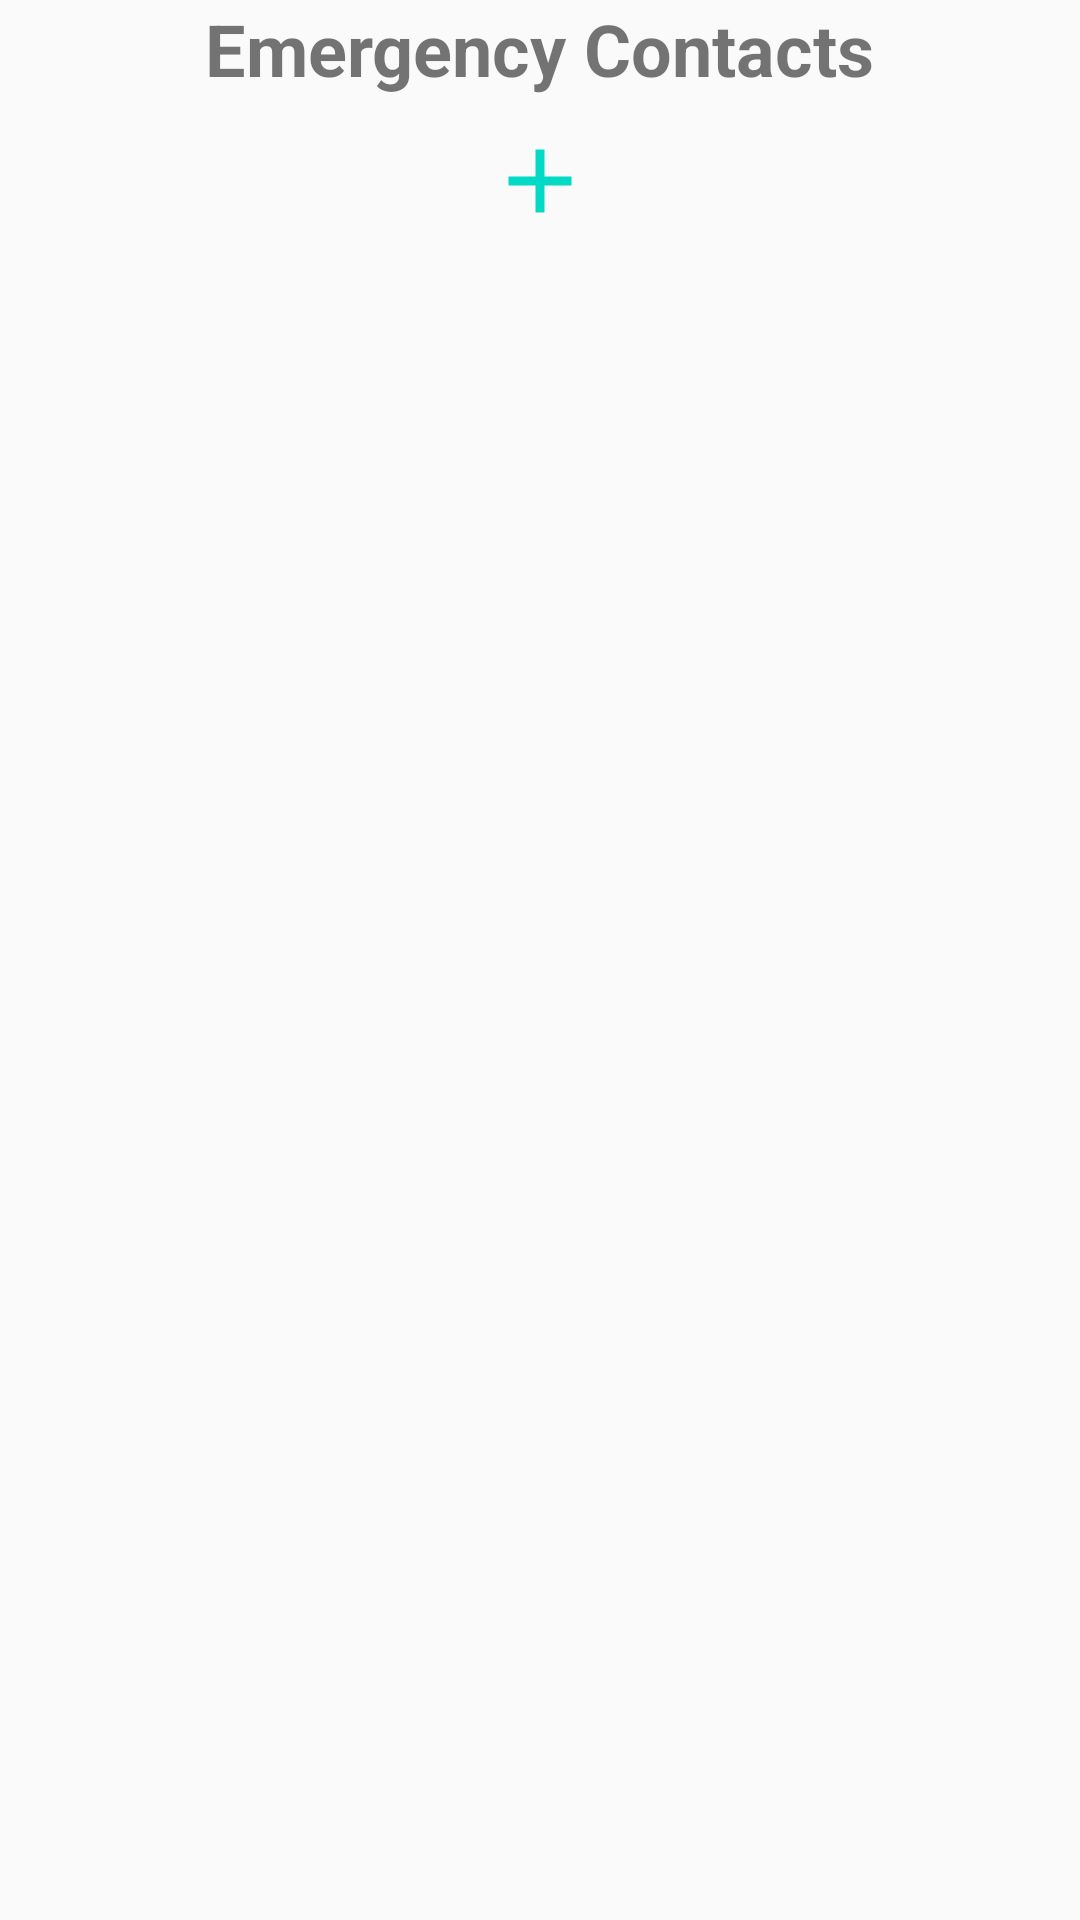

Screen size 1080px×1920px. Icon name, then its center in pixels as [x,y]:
Button to add new contacts: [540,181]
